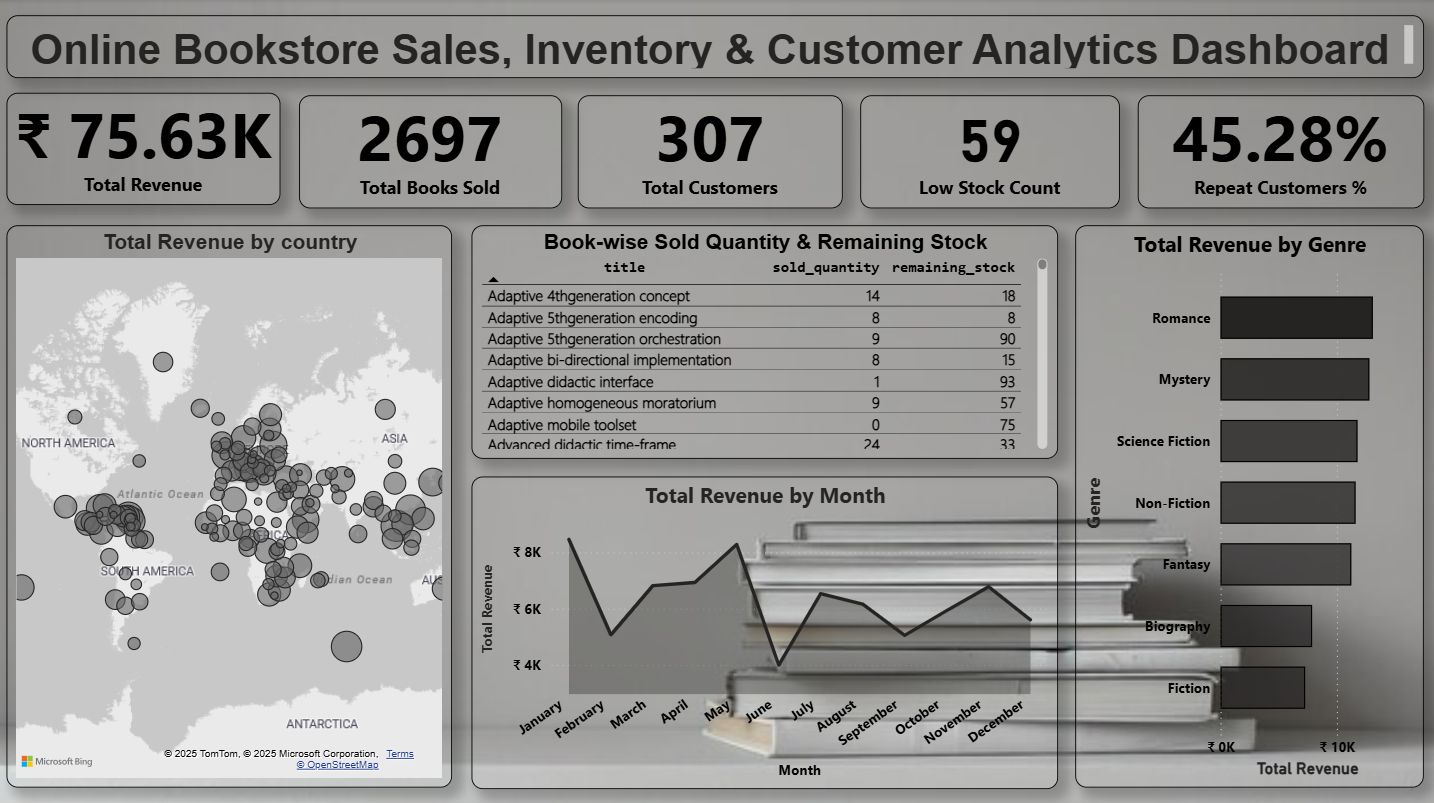

What the dashboard file says about the page in this screenshot:
{"tool":"powerbi","page":{"name":"Page 1","canvas":[1280,720],"ordinal":0},"visuals":[{"type":"card","fields":{"Values":["Sales_fact.Total Revenue"]},"box":[7,84,244,100],"z":0},{"type":"card","fields":{"Values":["Sales_fact.Total Customers"]},"box":[515,86,236,101],"z":1000},{"type":"card","fields":{"Values":["Sales_fact.Total Books Sold"]},"box":[267,86,234,101],"z":2000},{"type":"card","fields":{"Values":["inventory_status.Low Stock Count"]},"box":[767,86,231,101],"z":3000},{"type":"card","fields":{"Values":["customer_spend.Repeat Customers %"]},"box":[1014,86,255,101],"z":4000},{"type":"lineChart","fields":{"Category":["Sales_fact.order_date.Variation.Date Hierarchy.Month"],"Y":["Sales_fact.Total Revenue"]},"box":[421,425,522,278],"z":5000},{"type":"clusteredBarChart","title":"Total Revenue by Genre","fields":{"Category":["Sales_fact.genre"],"Y":["Sales_fact.Total Revenue"]},"box":[959,202,310,501],"z":6000},{"type":"map","fields":{"Category":["Sales_fact.country"],"Size":["Sales_fact.Total Revenue"]},"box":[7,202,397,501],"z":7000},{"type":"tableEx","title":"Book-wise Sold Quantity & Remaining Stock","fields":{"Values":["inventory_status.title","inventory_status.sold_quantity","inventory_status.remaining_stock"]},"box":[421,202,522,208],"z":8000},{"type":"textbox","box":[7,15,1262,56],"z":9000}]}

Visuals, with their boxes in screenshot pixels (x1, y1, x2, y2), scaled from the page's 1280x720 canvas onto the 1434x803 screenshot:
card - Sales_fact.Total Revenue: crop(8, 94, 281, 205)
card - Sales_fact.Total Customers: crop(577, 96, 841, 209)
card - Sales_fact.Total Books Sold: crop(299, 96, 561, 209)
card - inventory_status.Low Stock Count: crop(859, 96, 1118, 209)
card - customer_spend.Repeat Customers %: crop(1136, 96, 1422, 209)
lineChart - Sales_fact.order_date.Variation.Date Hierarchy.Month x Sales_fact.Total Revenue: crop(472, 474, 1056, 784)
"Total Revenue by Genre" clusteredBarChart: crop(1074, 225, 1422, 784)
map - Sales_fact.country x Sales_fact.Total Revenue: crop(8, 225, 453, 784)
"Book-wise Sold Quantity & Remaining Stock" tableEx: crop(472, 225, 1056, 457)
textbox: crop(8, 17, 1422, 79)
